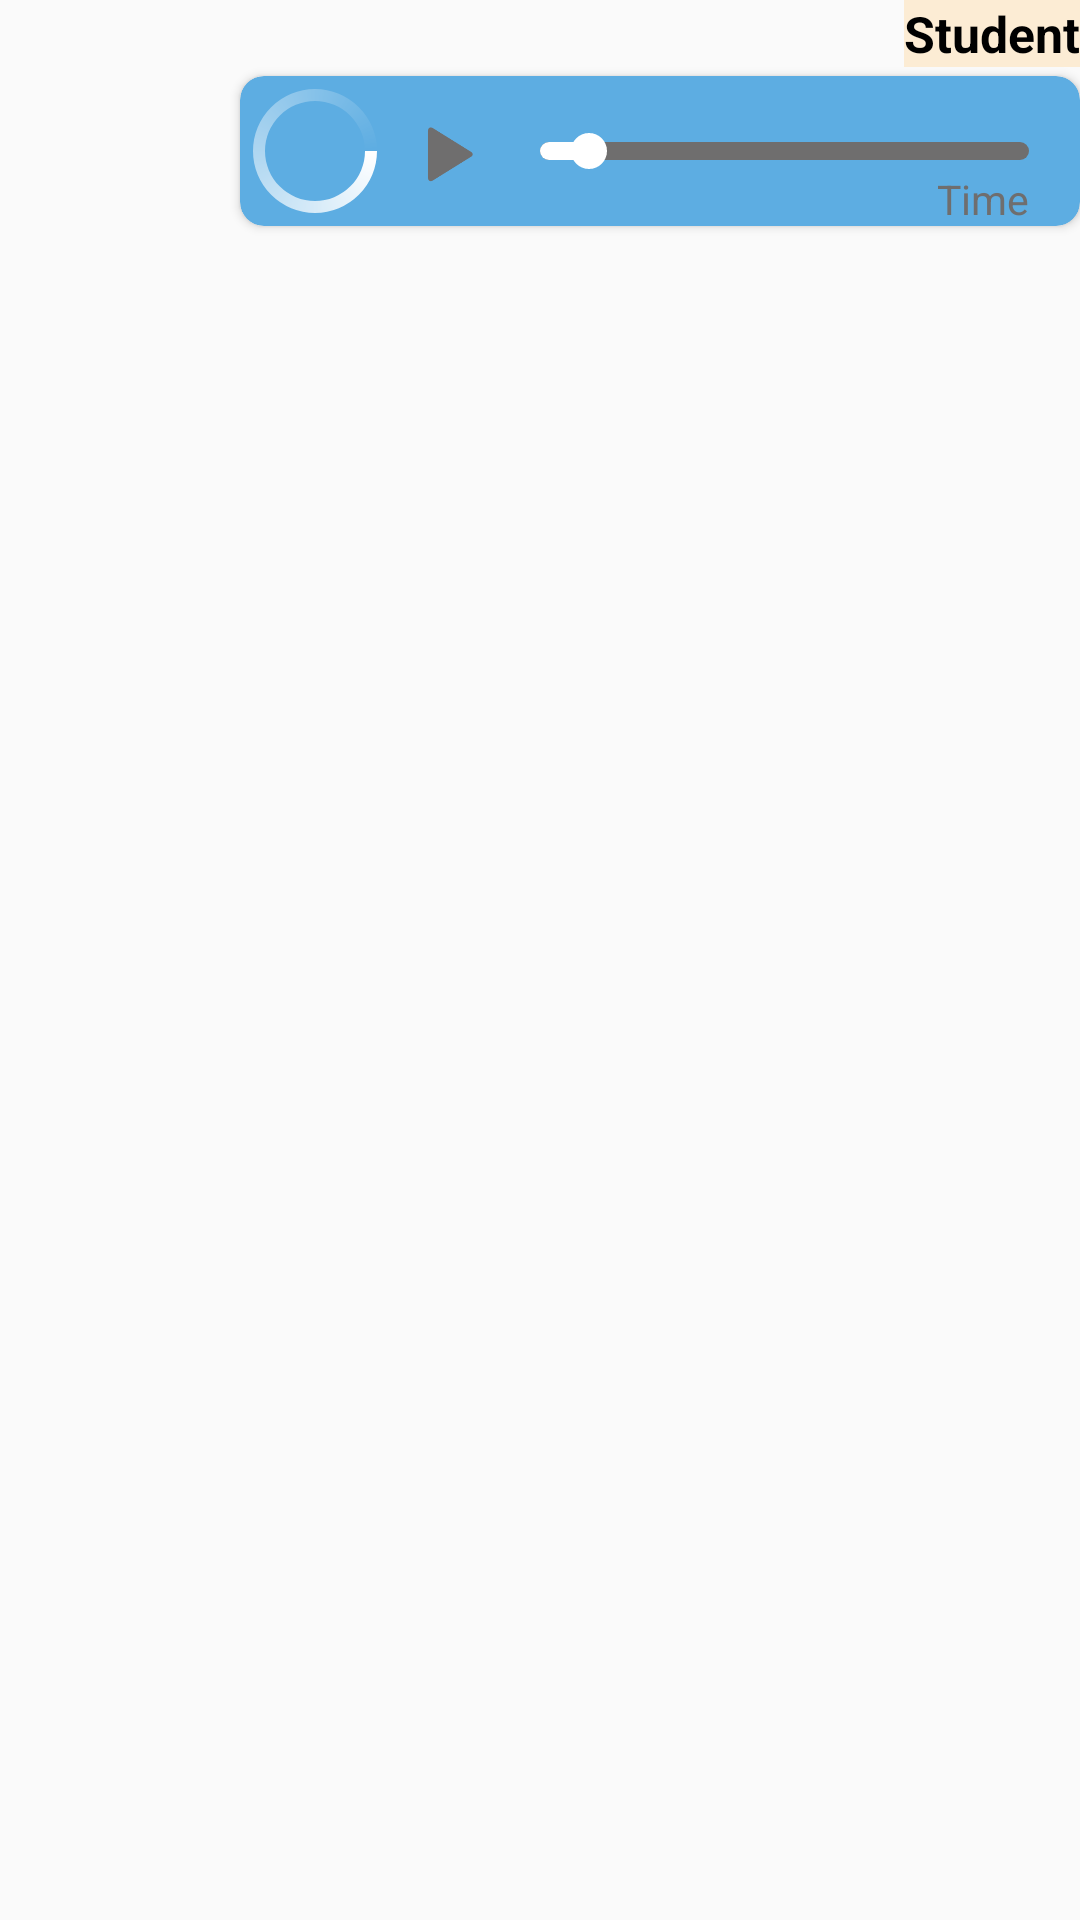

Named icons in this screenshot (1080px x 1920px) and their bounding boxes, (x1, y1, x2, y2):
play: (428, 127, 473, 181)
